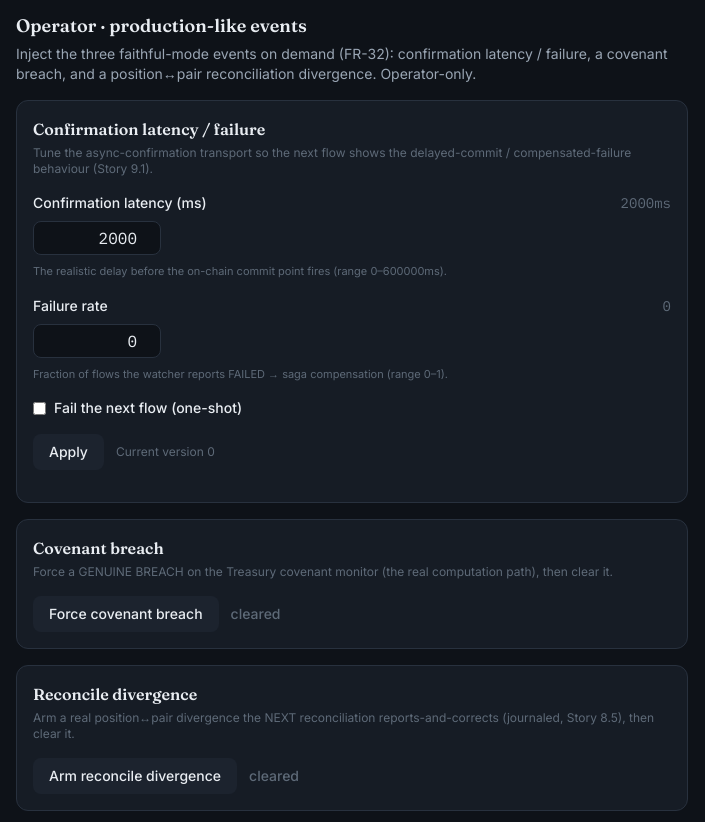
Test case: OperatorPanel — three faithful-mode injection controls (Story 9.5) › surfaces the typed 400 message when a confirmation PUT is refused (out-of-range)
Expected: the number field labelled "Confirmation latency" is shown, [33,221,161,255]
Step 1. Click the button "Apply" → point(68, 452), box [33,434,104,470]
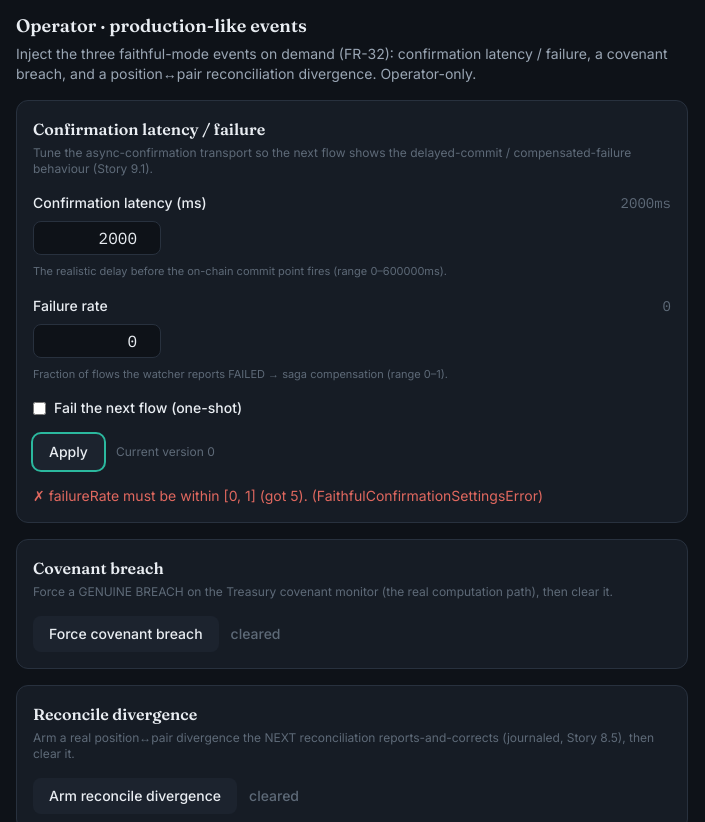
Expected: the message shows "failureRate must be within", [49,487,308,504]
Expected: the message shows "FaithfulConfirmationSettingsError", [317,487,538,504]
